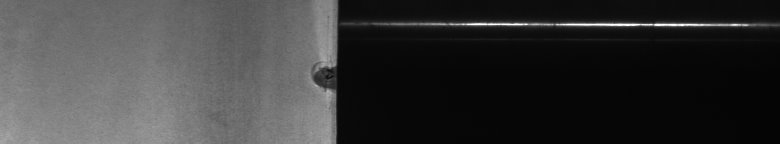hb: (304, 52, 324, 96)
